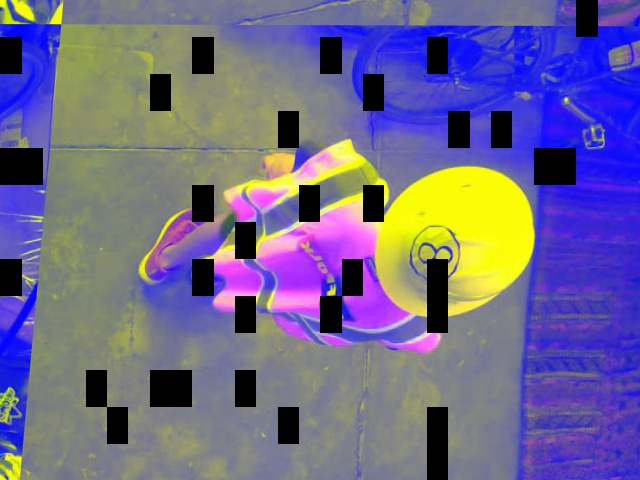eight: (407, 223, 463, 282)
